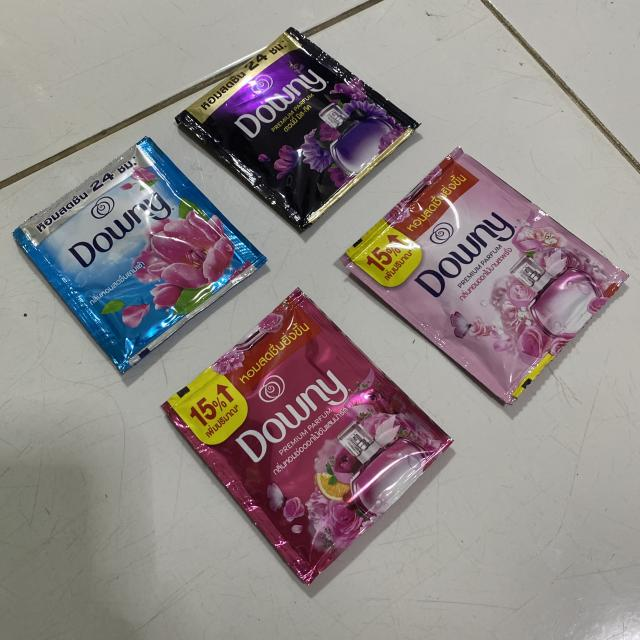plastik: (162, 289, 452, 584), (341, 148, 628, 404), (14, 138, 266, 372), (176, 28, 418, 229)
